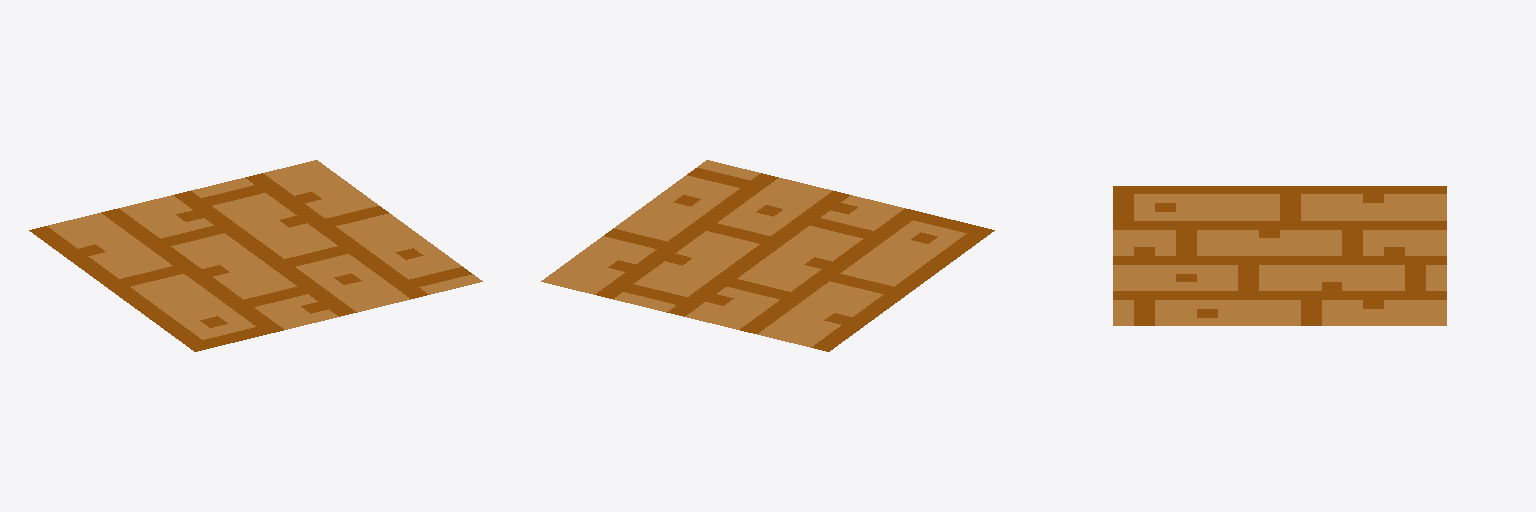
3 views of the same model, side by side, from view 1: azimuth 30°, elevation 25°; view 2: azimuth 150°, elevation 25°; view 3: azimuth 270°, elevation 25° (orthographic).
Visible parts, largest first — view 1: plane; view 2: plane; view 3: plane.
Boxes of the visible parts, x1,y1,x2,y2 form: plane: [29, 160, 482, 351]; plane: [541, 160, 994, 351]; plane: [1113, 186, 1446, 325].
Bounding box in the file's own units: 1 × 0 × 1.
1 materials, 1 textured.